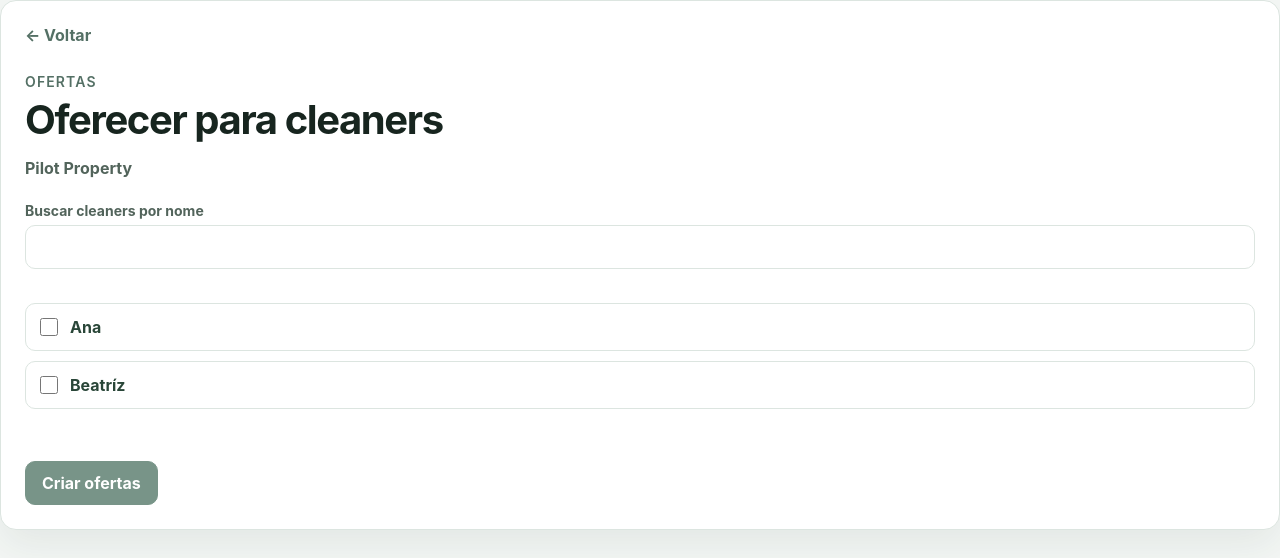
Scenario: OfferCleaners name search › localizes the offer-list search and creation action in pt
In the search field labelled "Buscar cleaners por nome": x=640, y=247 [25,225,1255,269], type "missing"
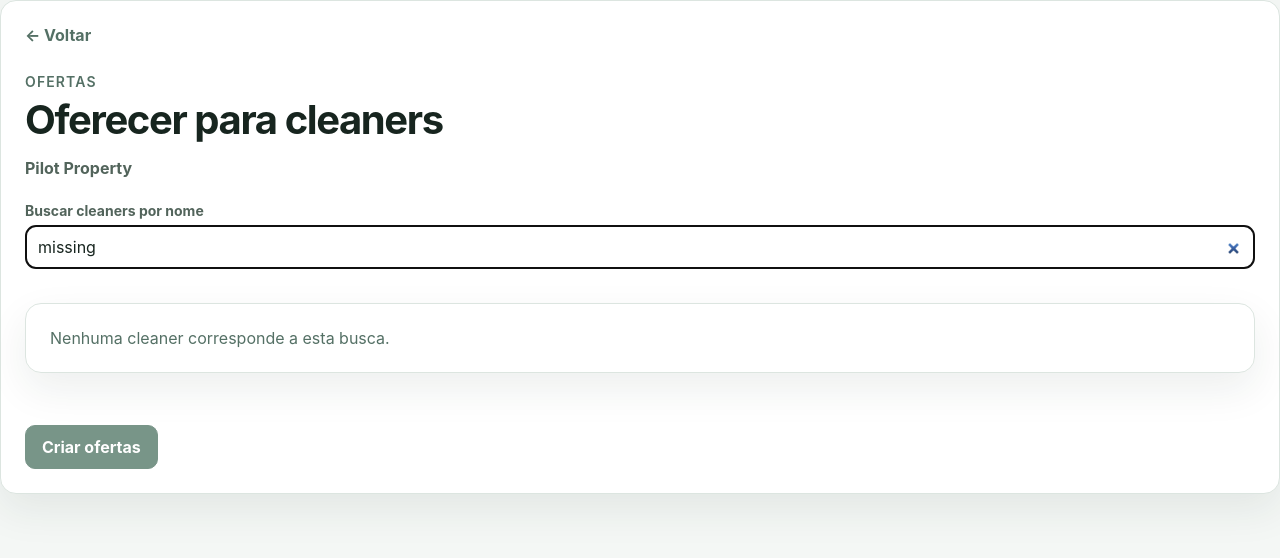
Expected: the button "Criar ofertas" is disabled, [25,425,158,469]
Now the text "Nenhuma cleaner corresponde a esta busca." is shown, box [25,303,1255,373]
